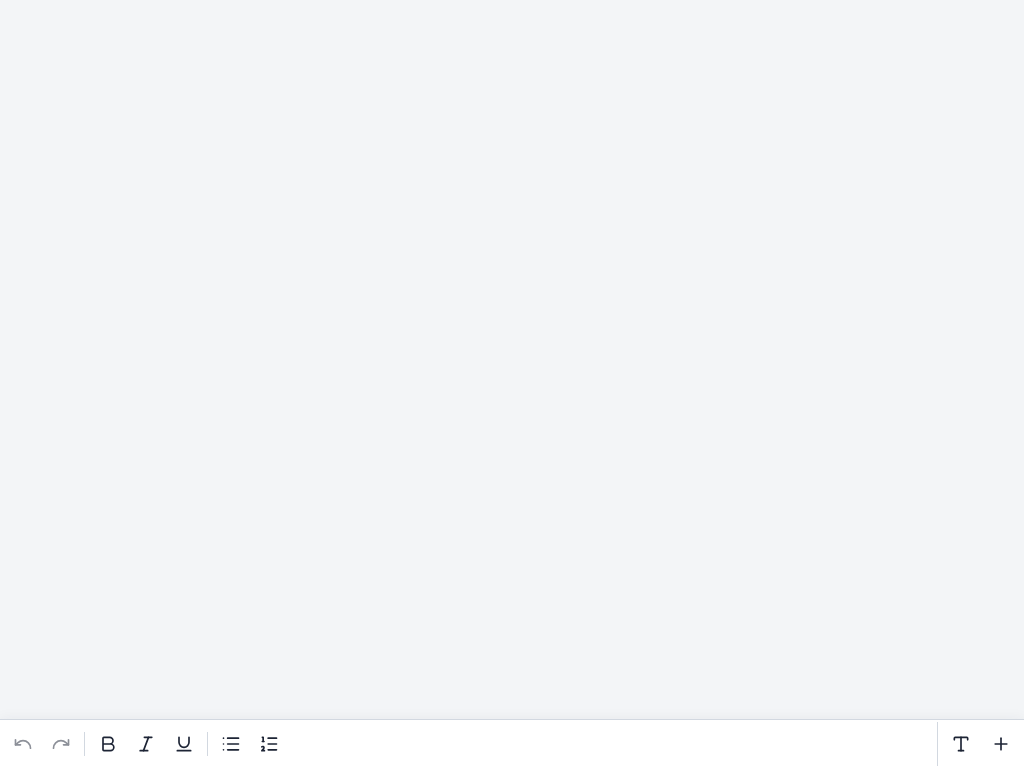
it: MobileToolbar › closes the panel with Escape or its toggle, and offers insert tiles
Click the button named "Text formatting".
click(961, 744)  # box top-left (942, 722), bottom-right (980, 766)
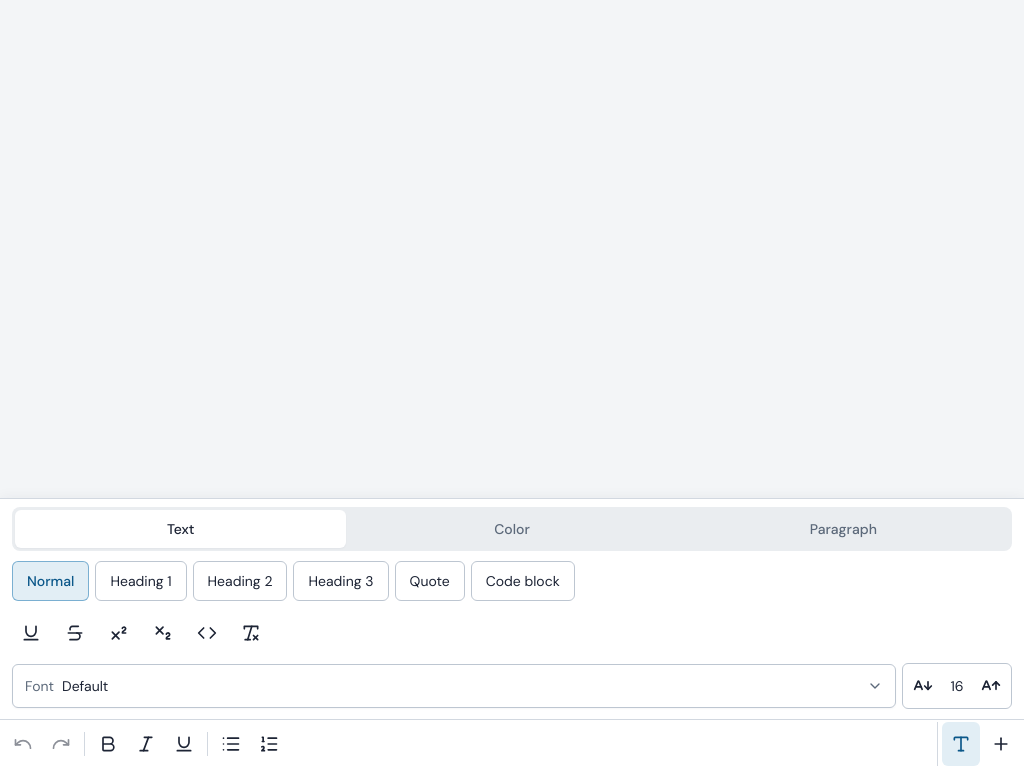
Press Escape
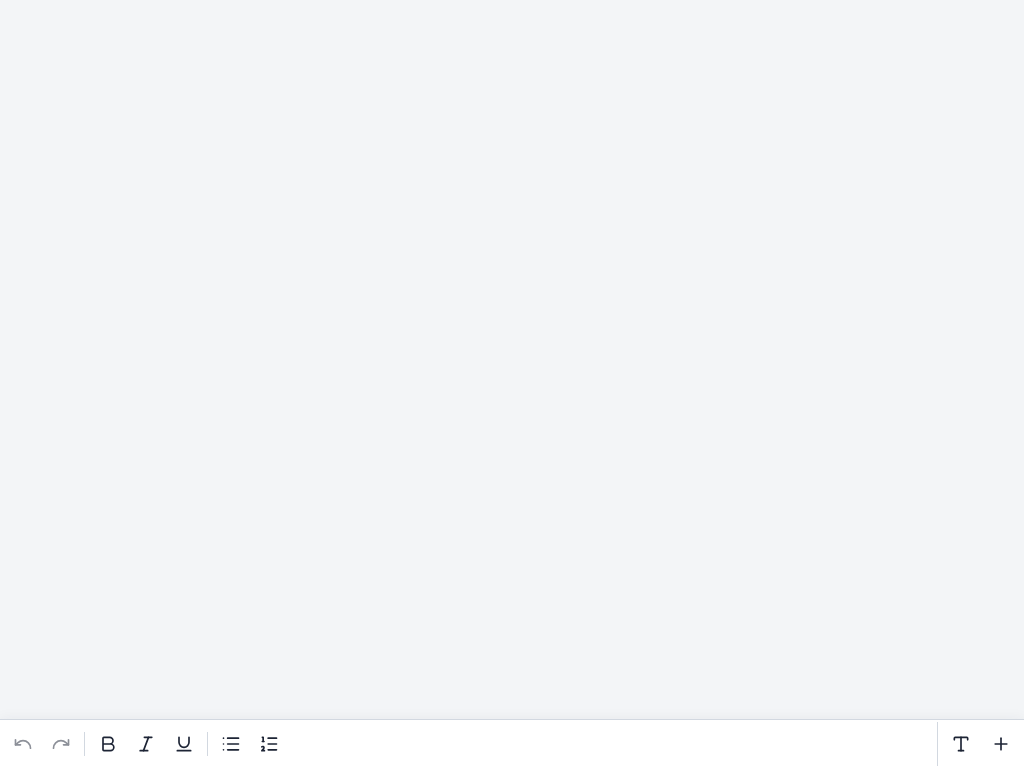
Click the button named "Insert".
click(1001, 744)  # box top-left (982, 722), bottom-right (1020, 766)
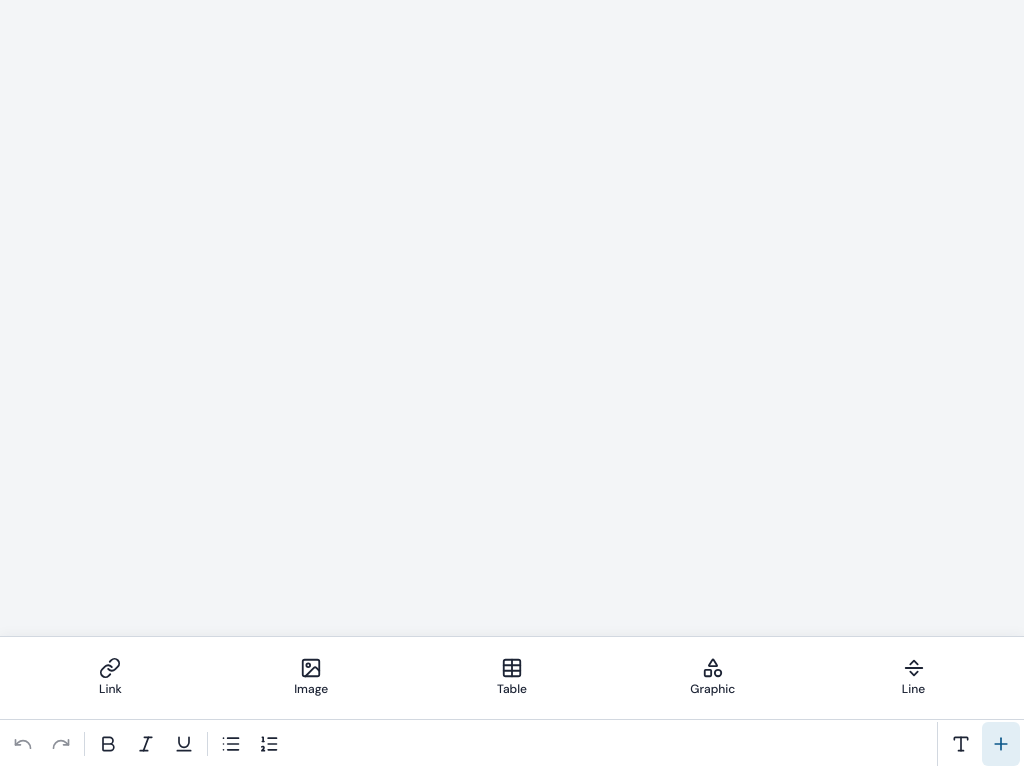
Expected: the button with aria-label "Insert link" is shown, top-left (12, 645), bottom-right (209, 709)
Expected: the button with aria-label "Insert image" is shown, top-left (213, 645), bottom-right (410, 709)
Expected: the button with aria-label "Insert table" is shown, top-left (414, 645), bottom-right (610, 709)
Click the button named "Insert".
click(1001, 744)  # box top-left (982, 722), bottom-right (1020, 766)
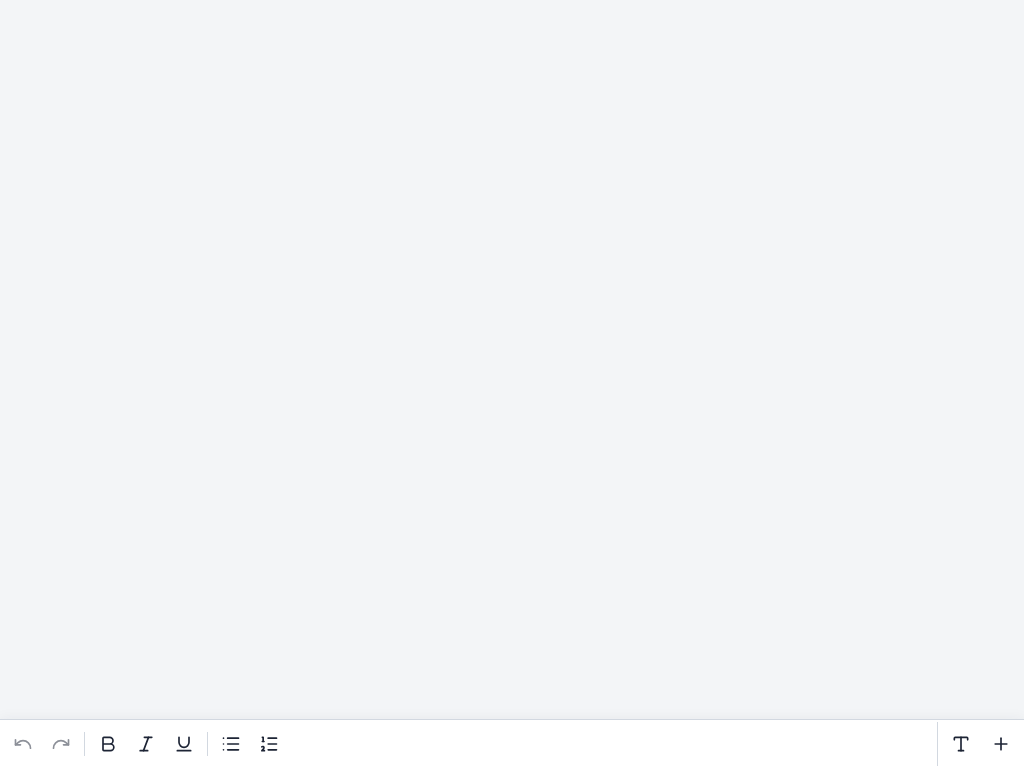
Expected: the button "Link" is gone
